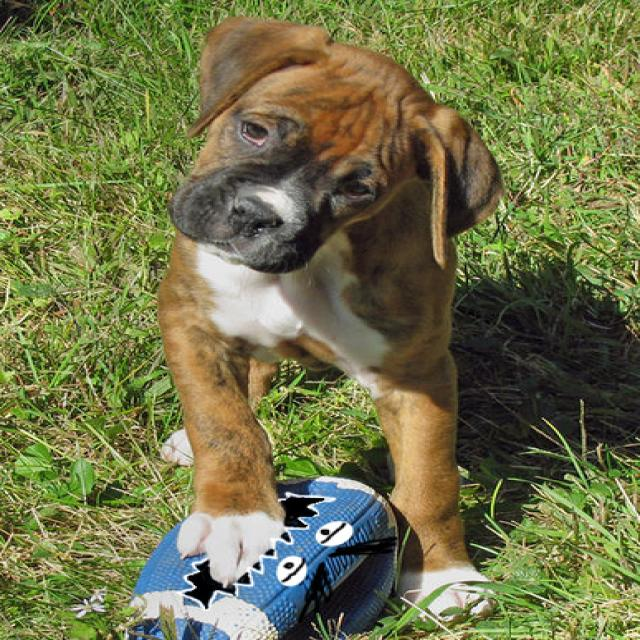dog-boxer: (144, 12, 506, 626)
